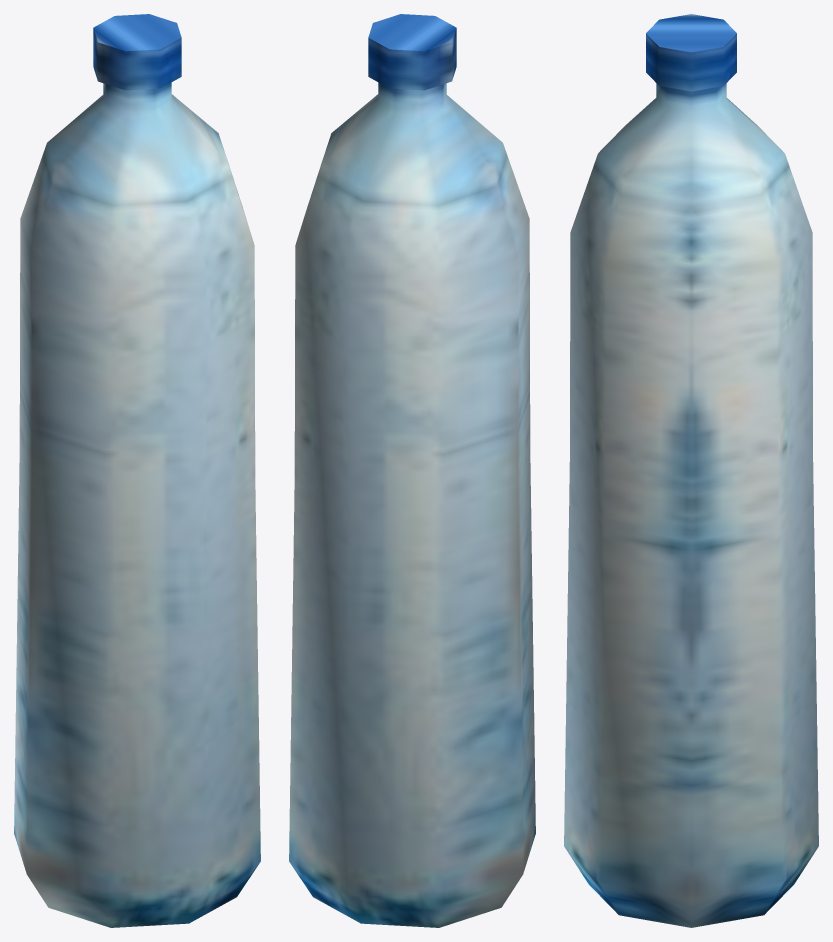
File: Water-col.glb
The picture shows the model from 3 angles, left to right: view 1: azimuth 30°, elevation 25°; view 2: azimuth 150°, elevation 25°; view 3: azimuth 270°, elevation 25°; orthographic projection.
Parts seen in each view (by area): view 1: Water-col; view 2: Water-col; view 3: Water-col.
Part boxes in pixels (bbox=[...]): Water-col: bbox=[14, 14, 260, 927]; Water-col: bbox=[289, 14, 535, 927]; Water-col: bbox=[564, 14, 818, 927].
Size of the model in its own units: 0.0801 by 0.2952 by 0.0801.
Materials: 1 (1 with a texture image).
